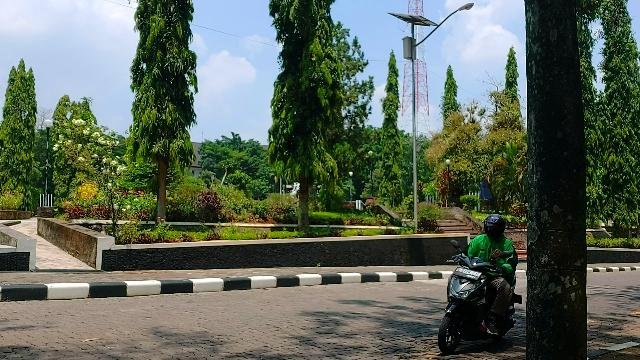helm: (486, 215, 507, 240)
motor: (438, 255, 522, 353)
